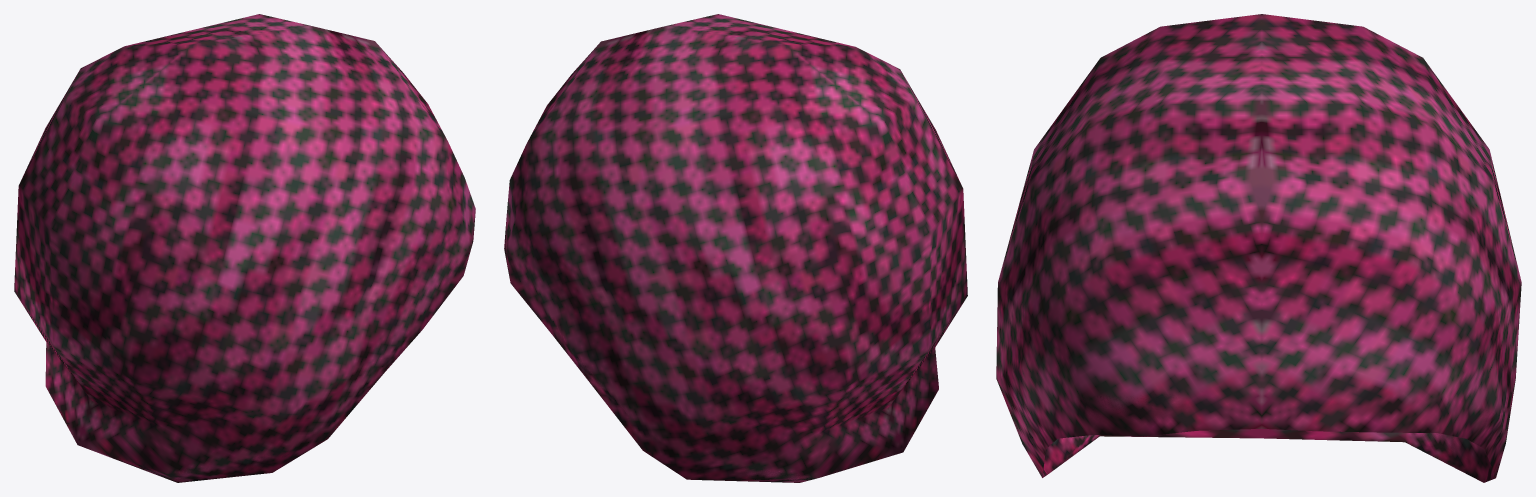
The model's file is hat_0450036.FBX.
3 renders of one model, left to right at view 1: azimuth 30°, elevation 25°; view 2: azimuth 150°, elevation 25°; view 3: azimuth 270°, elevation 25°, orthographic. The views are drawn at different scales.
Parts seen in each view (by area): view 1: hat_0450036; view 2: hat_0450036; view 3: hat_0450036.
Part boxes in pixels (left/top/right/bottom): hat_0450036: left=14, top=14, right=475, bottom=482; hat_0450036: left=504, top=14, right=967, bottom=482; hat_0450036: left=996, top=14, right=1521, bottom=482.
Size of the model in its own units: 24.7 by 23.08 by 22.8.
